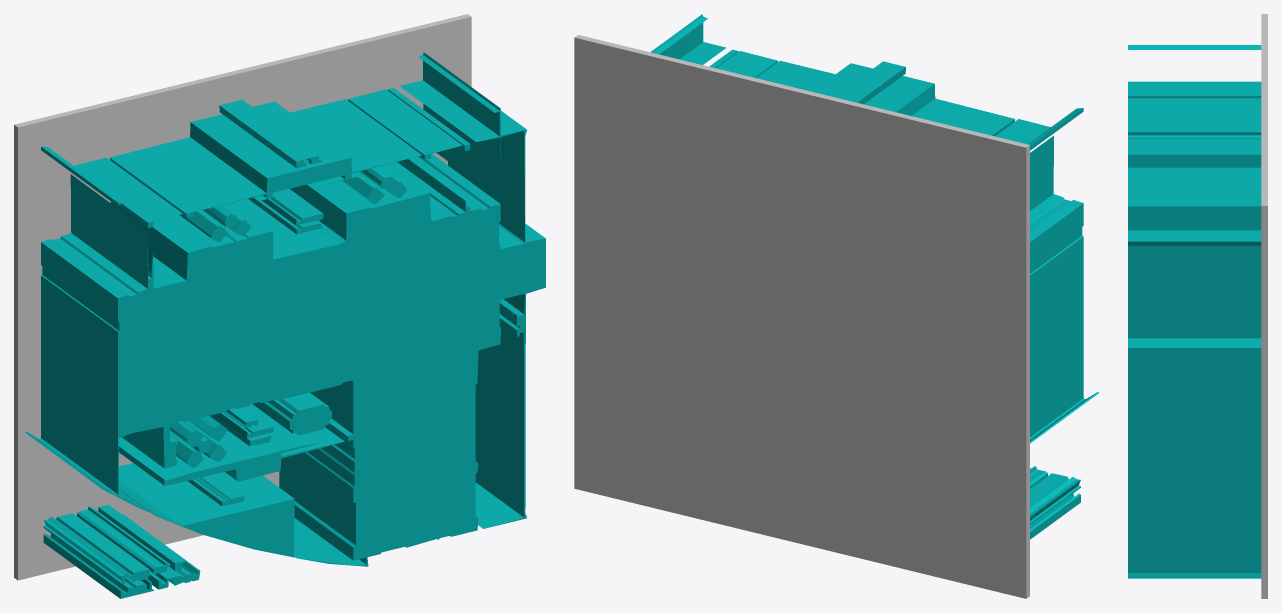
3 renders of one model, left to right at view 1: azimuth 30°, elevation 25°; view 2: azimuth 150°, elevation 25°; view 3: azimuth 270°, elevation 25°, orthographic. The views are drawn at different scales.
Parts seen in each view (by area): view 1: world; view 2: world; view 3: world.
Boxes of the visible parts, x1,y1,x2,y2 form: world: (14,14,545,598); world: (574,14,1099,598); world: (1128,14,1267,598).
Bounding box in the file's own units: 10.23 × 9.76 × 3.15.
